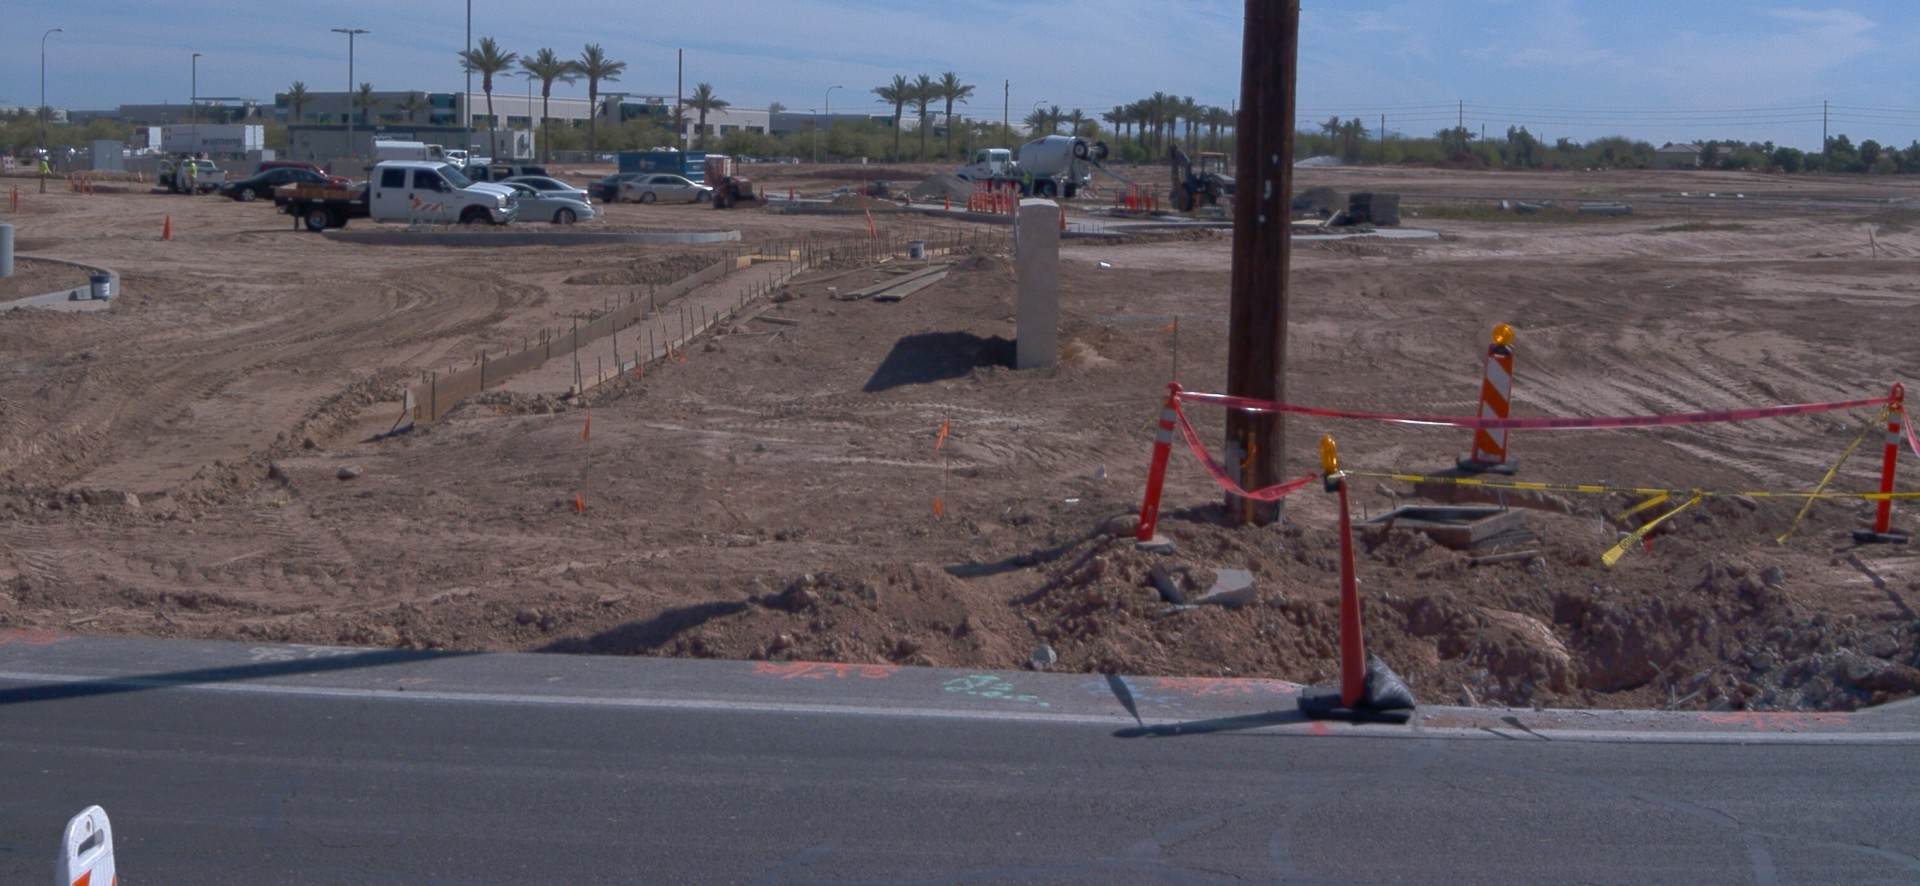TYPE_PEDESTRIAN: (35, 153, 54, 195), (184, 156, 197, 196), (1018, 168, 1033, 198), (169, 162, 182, 185)
TYPE_VEHICLE: (273, 161, 519, 233), (955, 137, 1145, 204), (1166, 137, 1243, 221), (159, 118, 268, 161), (219, 166, 336, 204), (32, 125, 159, 160), (498, 182, 596, 225), (369, 132, 466, 172), (702, 154, 765, 212), (499, 175, 592, 209), (617, 172, 714, 204), (156, 156, 229, 195), (249, 160, 353, 186), (461, 164, 553, 184), (583, 171, 638, 202), (447, 146, 495, 168), (1272, 150, 1296, 167)
